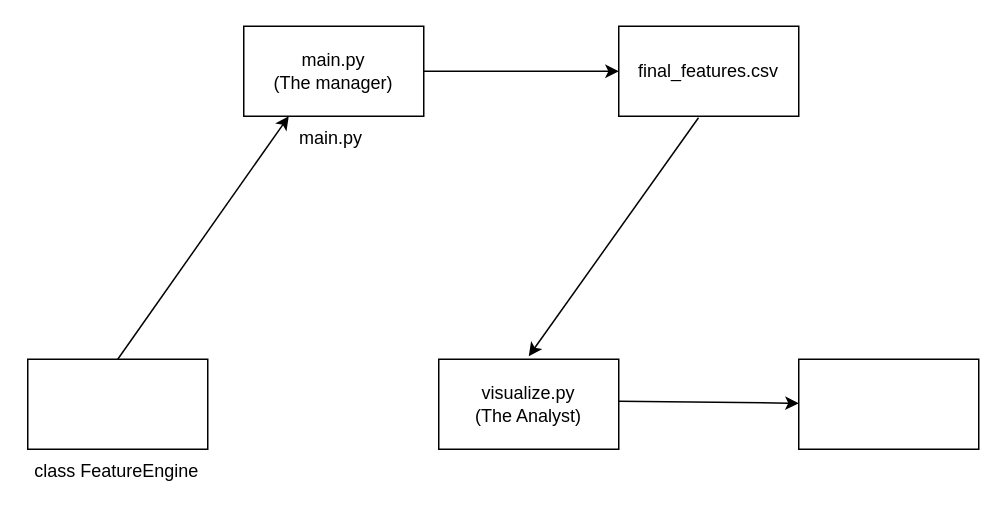
The diagram is 1005 pixels wide and 521 high, and some of its shapes have lost their labels. Each missing label, with the centre of its shape:
features.py (The blueprint): (x=117, y=403)
generates png images: (x=888, y=403)
